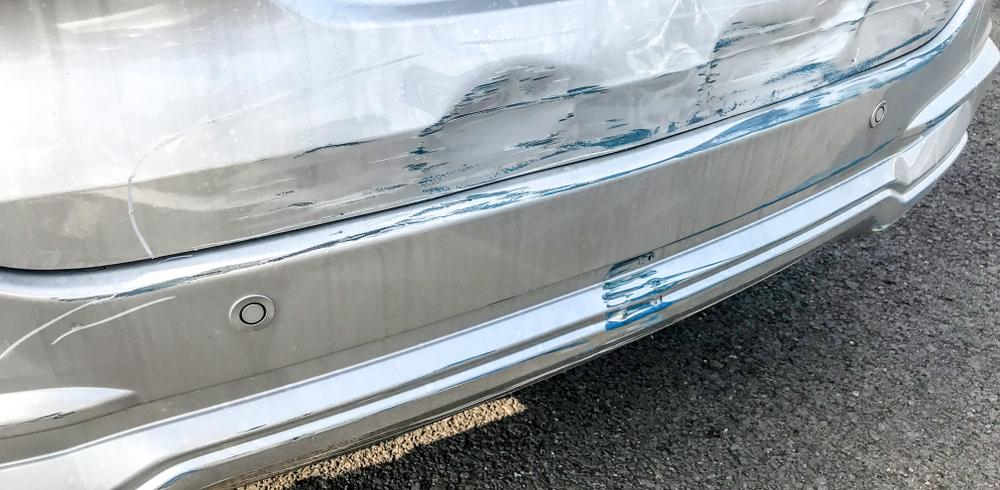dent: (222, 56, 651, 231), (695, 0, 956, 121)
scratch: (63, 39, 947, 317), (599, 242, 674, 340)
